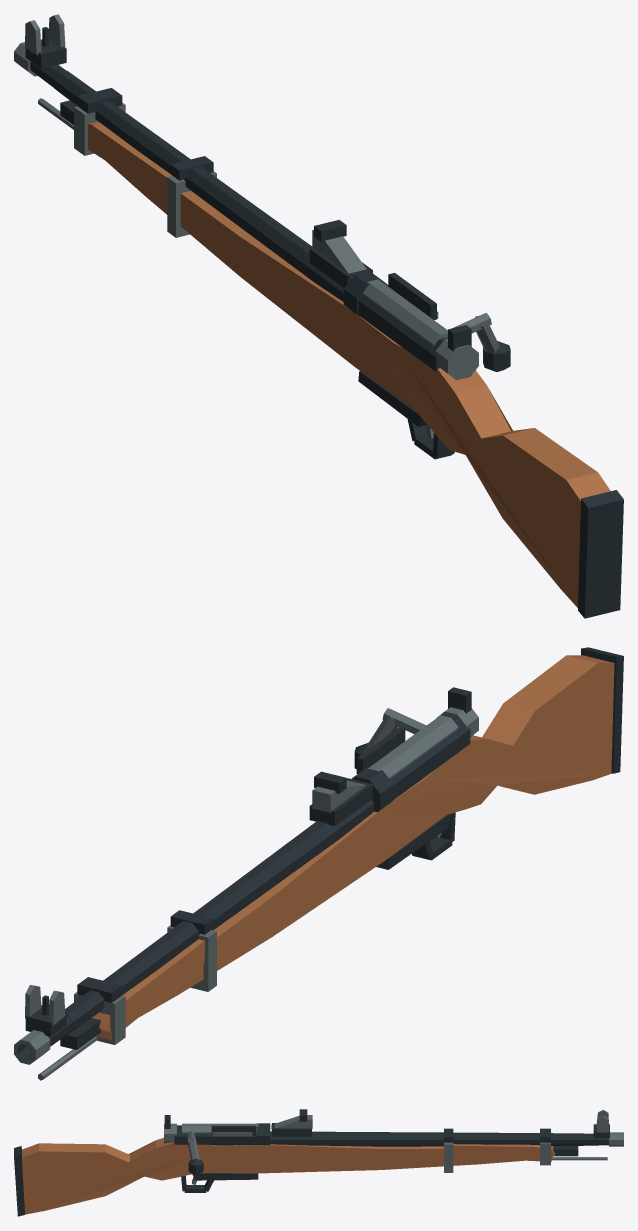
The model's file is Kar98k.glb.
3 views of the same model, one above another, from view 1: azimuth 30°, elevation 25°; view 2: azimuth 150°, elevation 25°; view 3: azimuth 270°, elevation 25° (orthographic). The views are drawn at different scales.
Parts seen in each view (by area): view 1: Wood_stock_0, Barrel_14, Butt_plate_3, Fore_end_upper_facet_17, Bolt_5, Receiver_4, Bolt_shroud_9, Rear_sight_ramp_28, Stock_band_18, Ejection_port_6, Magazine_floor_34, Rear_sight_base_27; view 2: Wood_stock_0, Barrel_14, Fore_end_upper_facet_17, Bolt_5, Receiver_4, Butt_plate_3, Rear_sight_base_27, Magazine_floor_34, Receiver_ring_8, Stock_band_18, Ejection_port_6, Rear_sight_ramp_28 (+6 smaller); view 3: Wood_stock_0, Barrel_14, Fore_end_upper_facet_17, Receiver_4, Butt_plate_3, Magazine_floor_34, Bolt_5, Rear_sight_ramp_28, Ejection_port_6, Rear_sight_base_27, Receiver_ring_8, Stock_band_18 (+10 smaller).
Boxes of the visible parts, <box> form: Wood_stock_0: <box>106,161,610,607</box>; Barrel_14: <box>54,71,343,301</box>; Butt_plate_3: <box>578,490,623,618</box>; Fore_end_upper_facet_17: <box>88,121,172,199</box>; Bolt_5: <box>362,279,447,346</box>; Receiver_4: <box>358,295,447,372</box>; Bolt_shroud_9: <box>435,338,478,380</box>; Rear_sight_ramp_28: <box>312,230,366,277</box>; Stock_band_18: <box>167,171,216,237</box>; Ejection_port_6: <box>388,273,436,319</box>; Magazine_floor_34: <box>358,371,426,426</box>; Rear_sight_base_27: <box>309,248,372,287</box>; Wood_stock_0: <box>92,655,614,1031</box>; Barrel_14: <box>65,799,374,1034</box>; Fore_end_upper_facet_17: <box>96,939,204,1039</box>; Bolt_5: <box>368,715,458,778</box>; Receiver_4: <box>390,714,470,799</box>; Butt_plate_3: <box>581,647,623,773</box>; Rear_sight_base_27: <box>309,778,372,826</box>; Magazine_floor_34: <box>376,813,451,869</box>; Receiver_ring_8: <box>352,767,393,812</box>; Stock_band_18: <box>167,925,216,991</box>; Ejection_port_6: <box>356,727,405,773</box>; Rear_sight_ramp_28: <box>312,780,366,812</box>; Wood_stock_0: <box>22,1138,554,1214</box>; Barrel_14: <box>270,1131,583,1146</box>; Fore_end_upper_facet_17: <box>453,1144,551,1161</box>; Receiver_4: <box>174,1125,256,1145</box>; Butt_plate_3: <box>14,1146,24,1216</box>; Magazine_floor_34: <box>192,1173,258,1180</box>; Bolt_5: <box>182,1123,258,1133</box>; Rear_sight_ramp_28: <box>271,1115,312,1129</box>; Ejection_port_6: <box>211,1125,255,1135</box>; Rear_sight_base_27: <box>272,1123,311,1136</box>; Receiver_ring_8: <box>256,1123,270,1144</box>; Stock_band_18: <box>444,1142,453,1172</box>.
Size of the model in its own units: 0.1222 by 0.2279 by 1.27.
